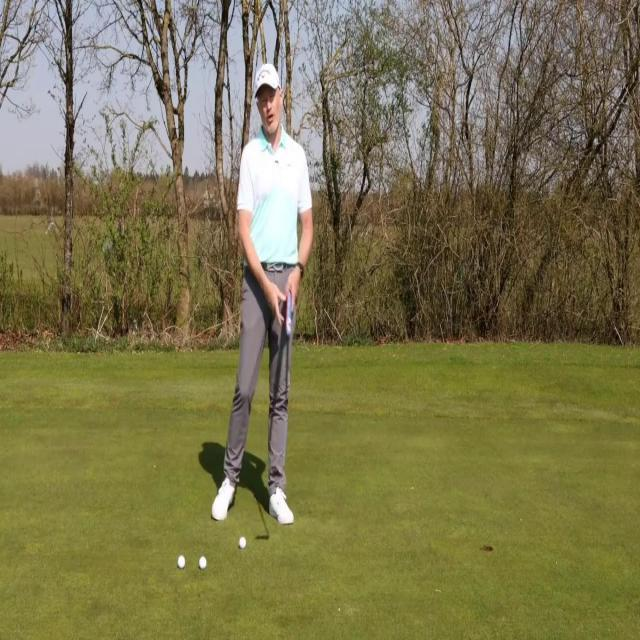GolfBall: (171, 548, 188, 574), (234, 530, 252, 554), (196, 551, 210, 573)
